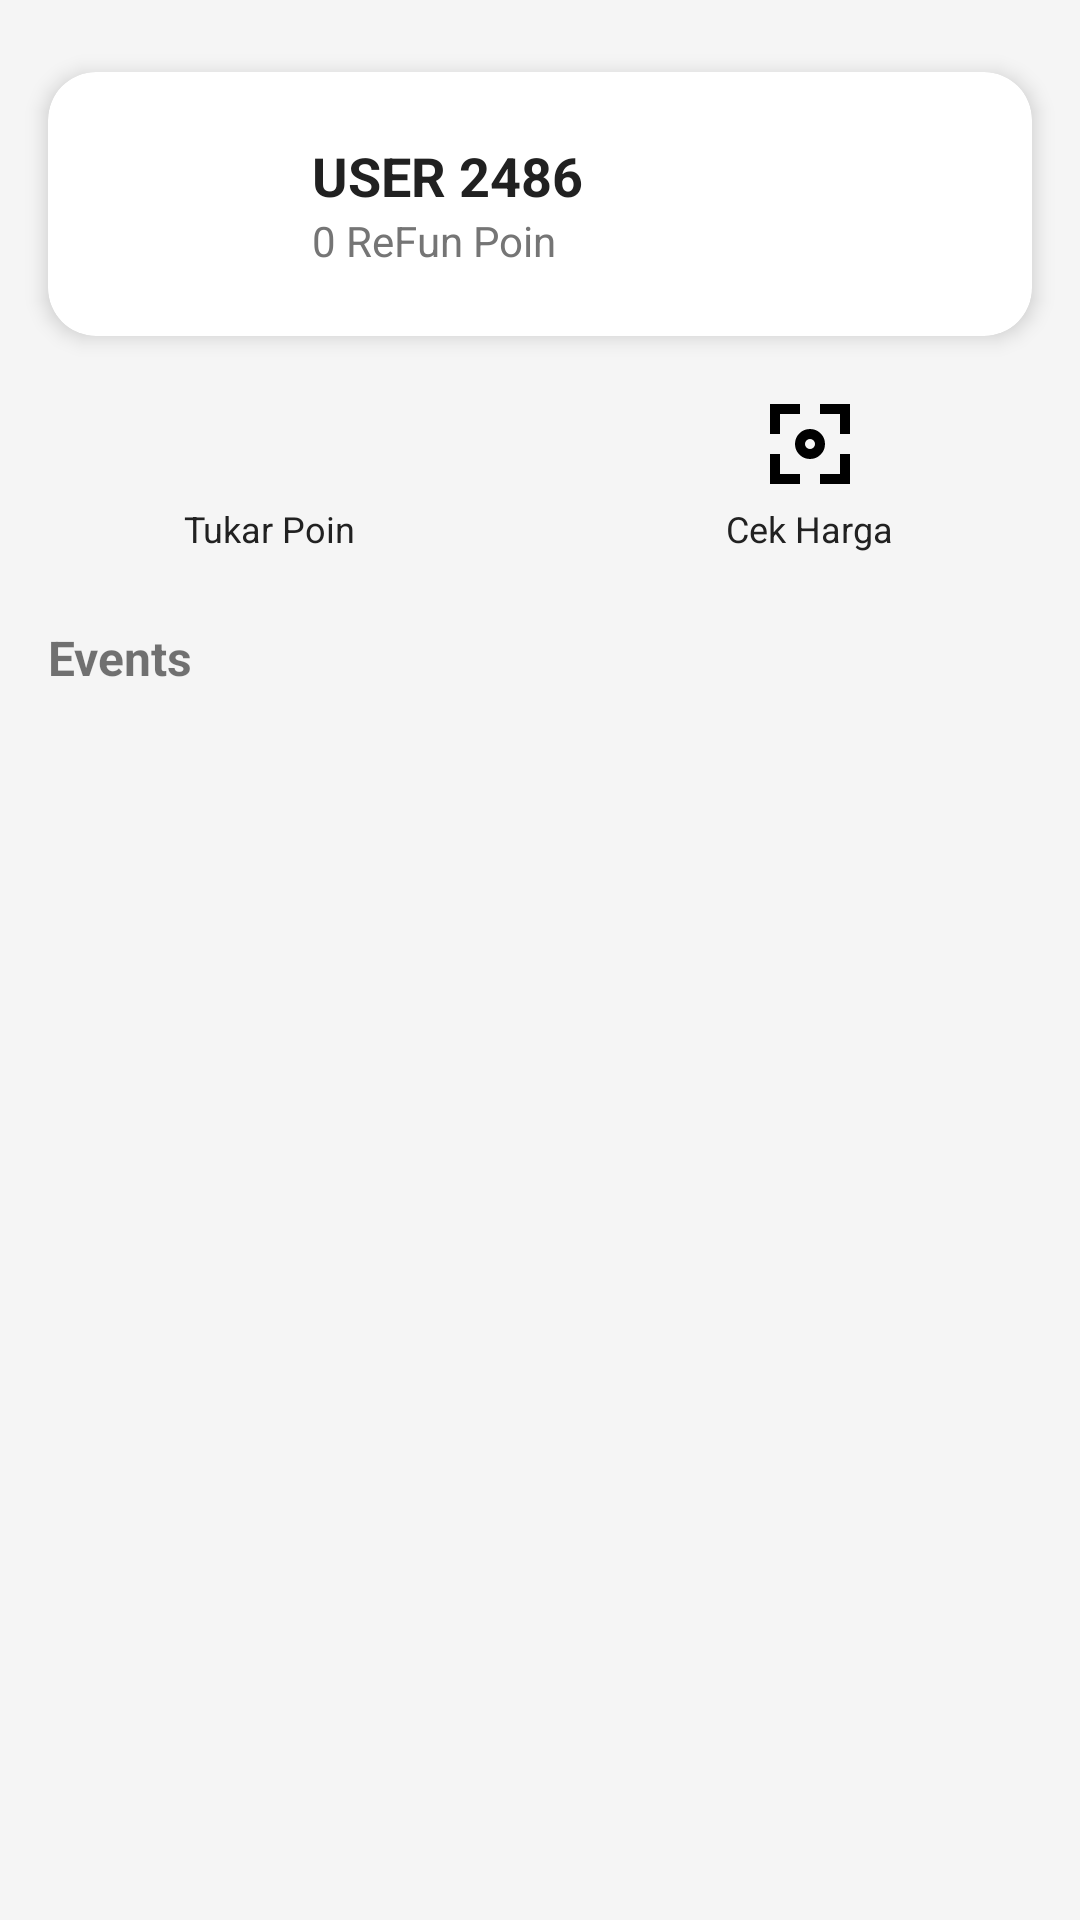

Icon click points for this 1080 x 1920 phone screenshot, format (x=x, y=y):
scan: (x=810, y=444)
